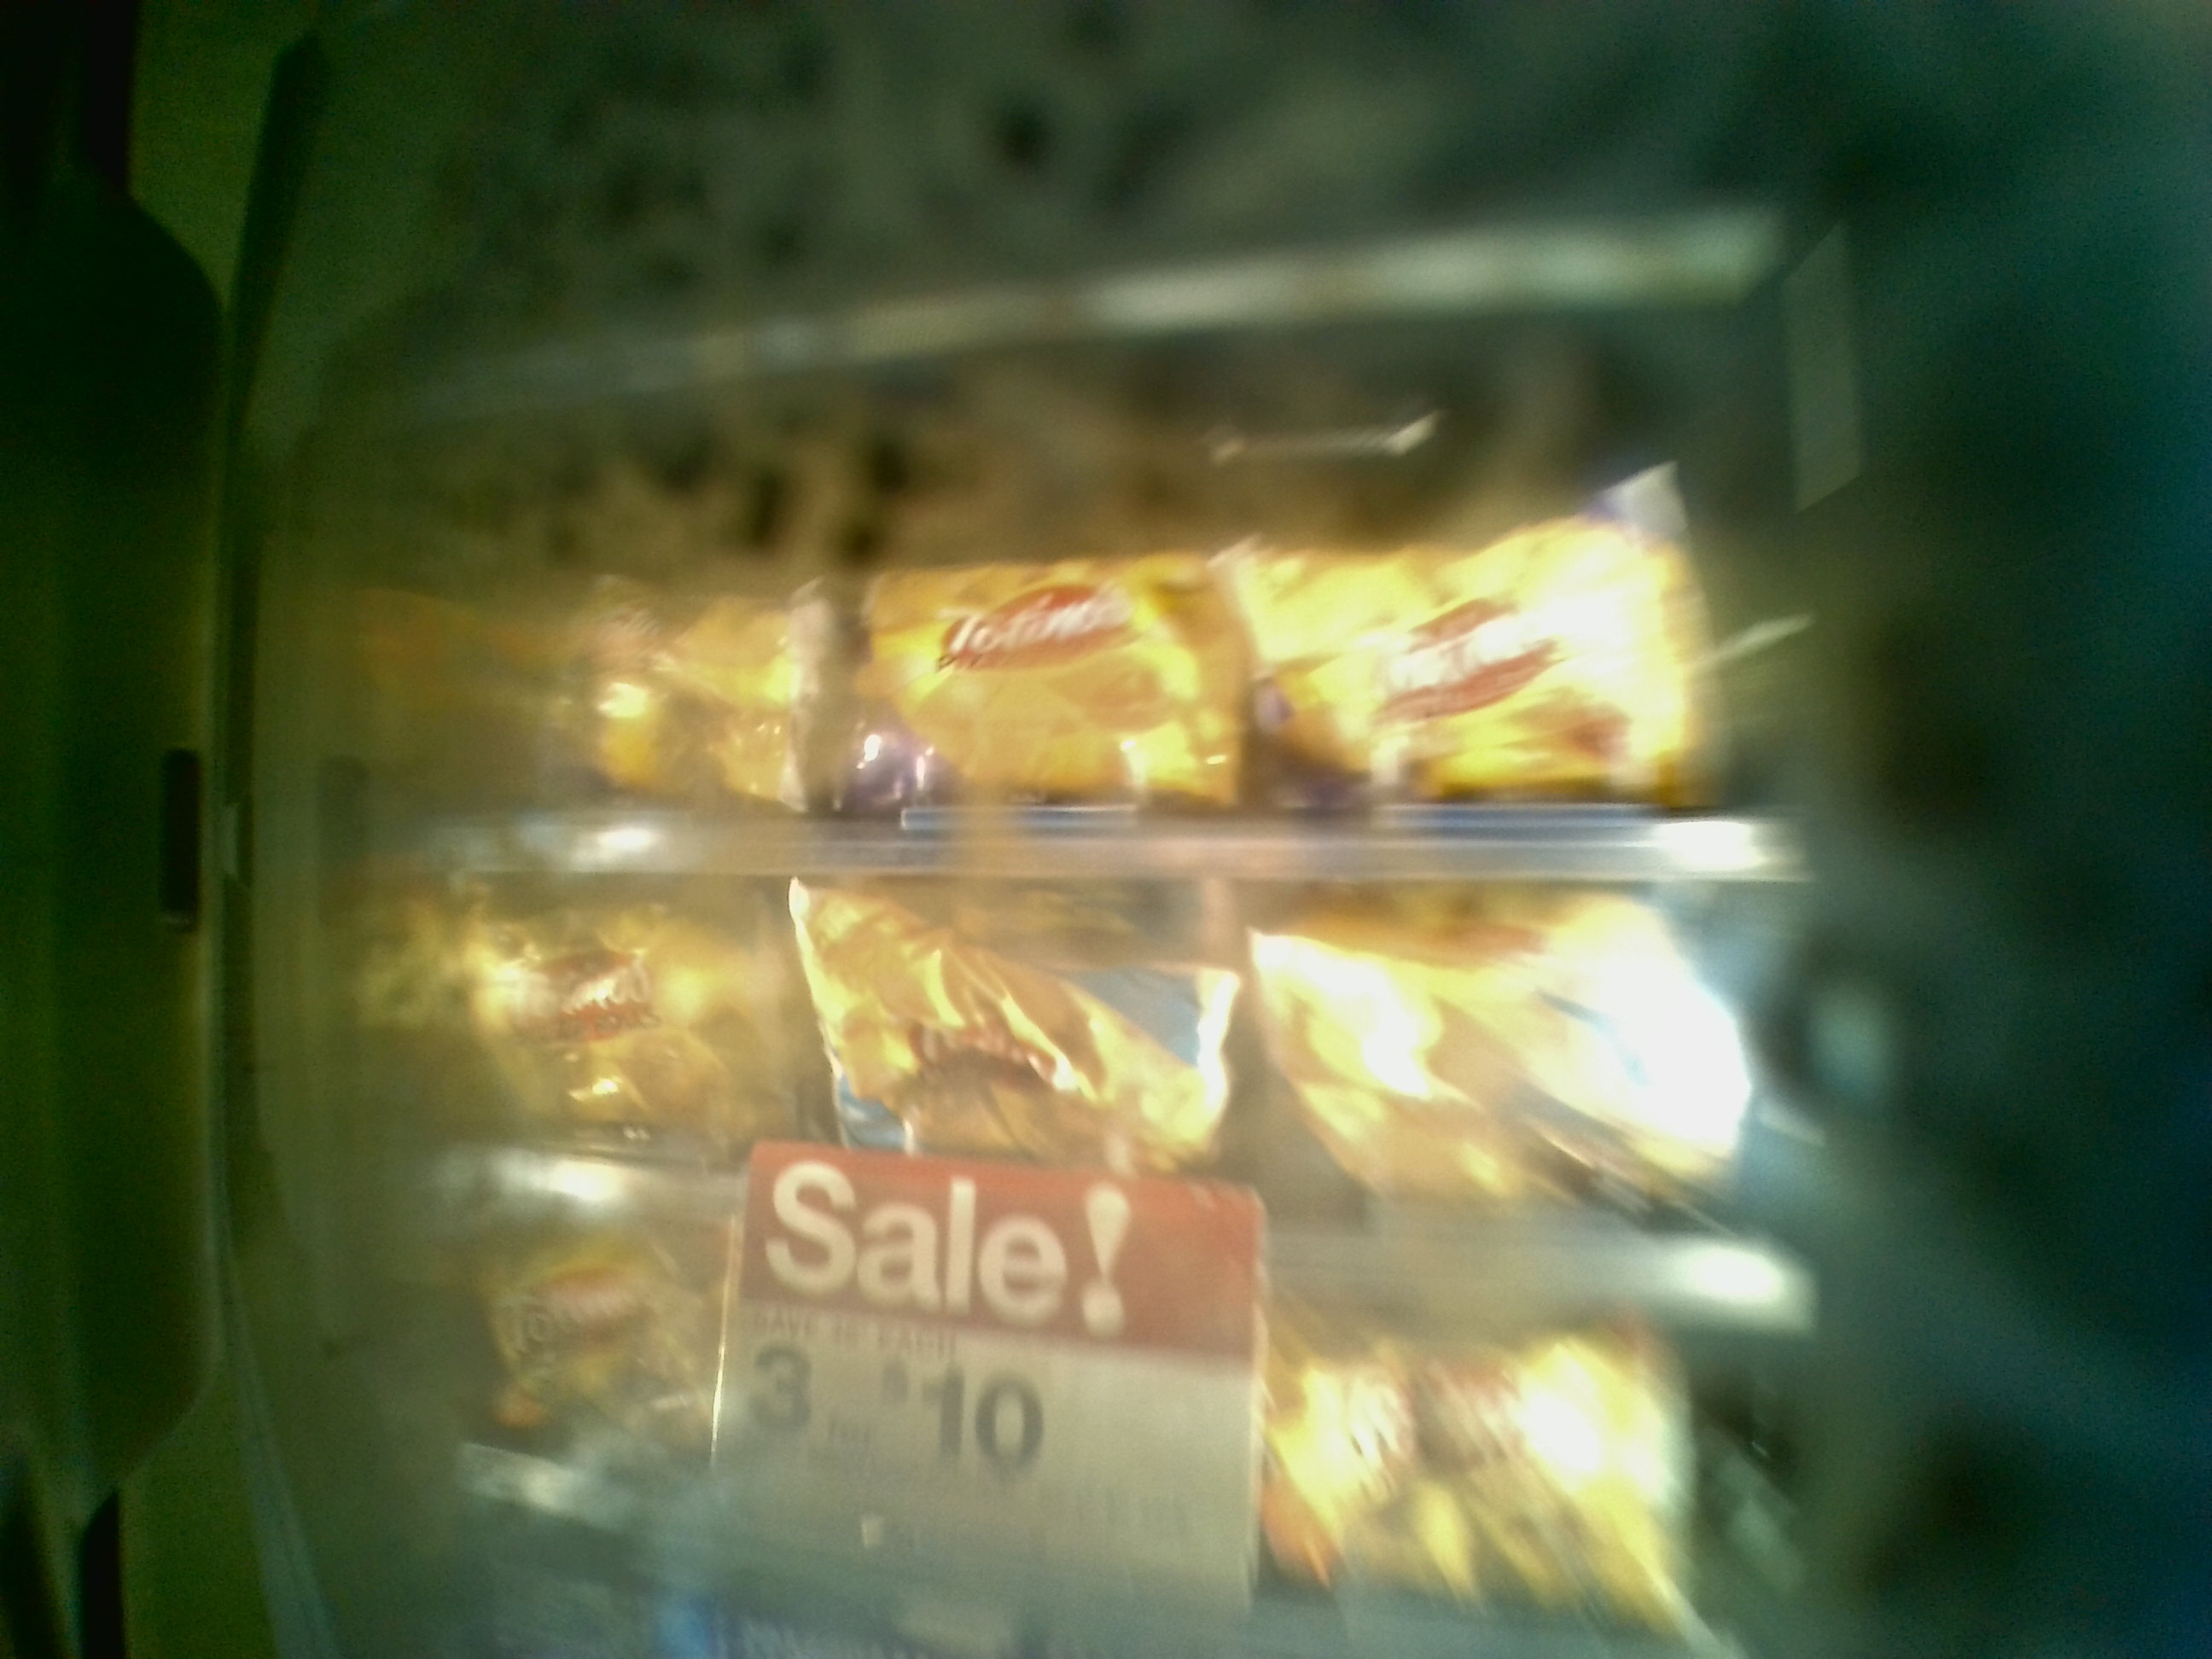shelf: (395, 355, 1811, 873)
